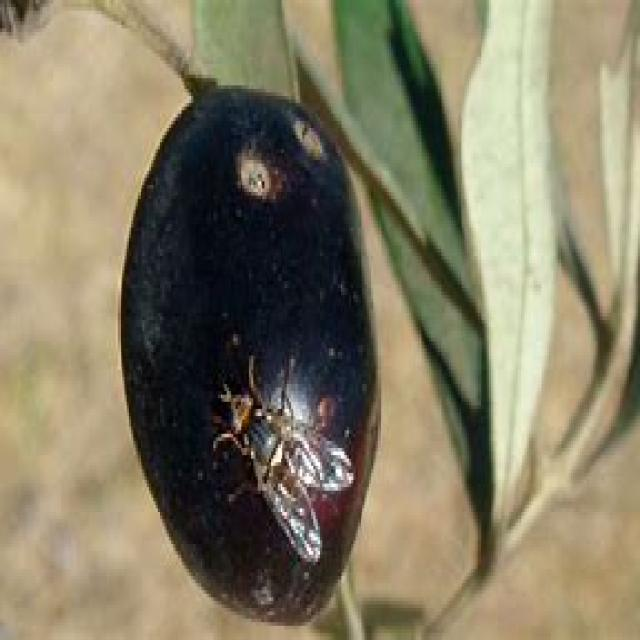Olive Fruit Fly: (120, 85, 378, 622)
